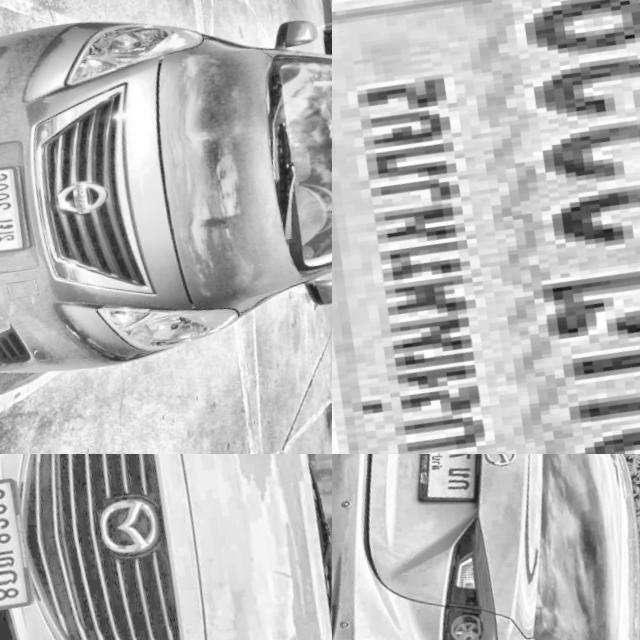license-plate: (332, 0, 640, 454), (0, 464, 55, 621), (399, 454, 506, 511), (0, 150, 49, 269)
